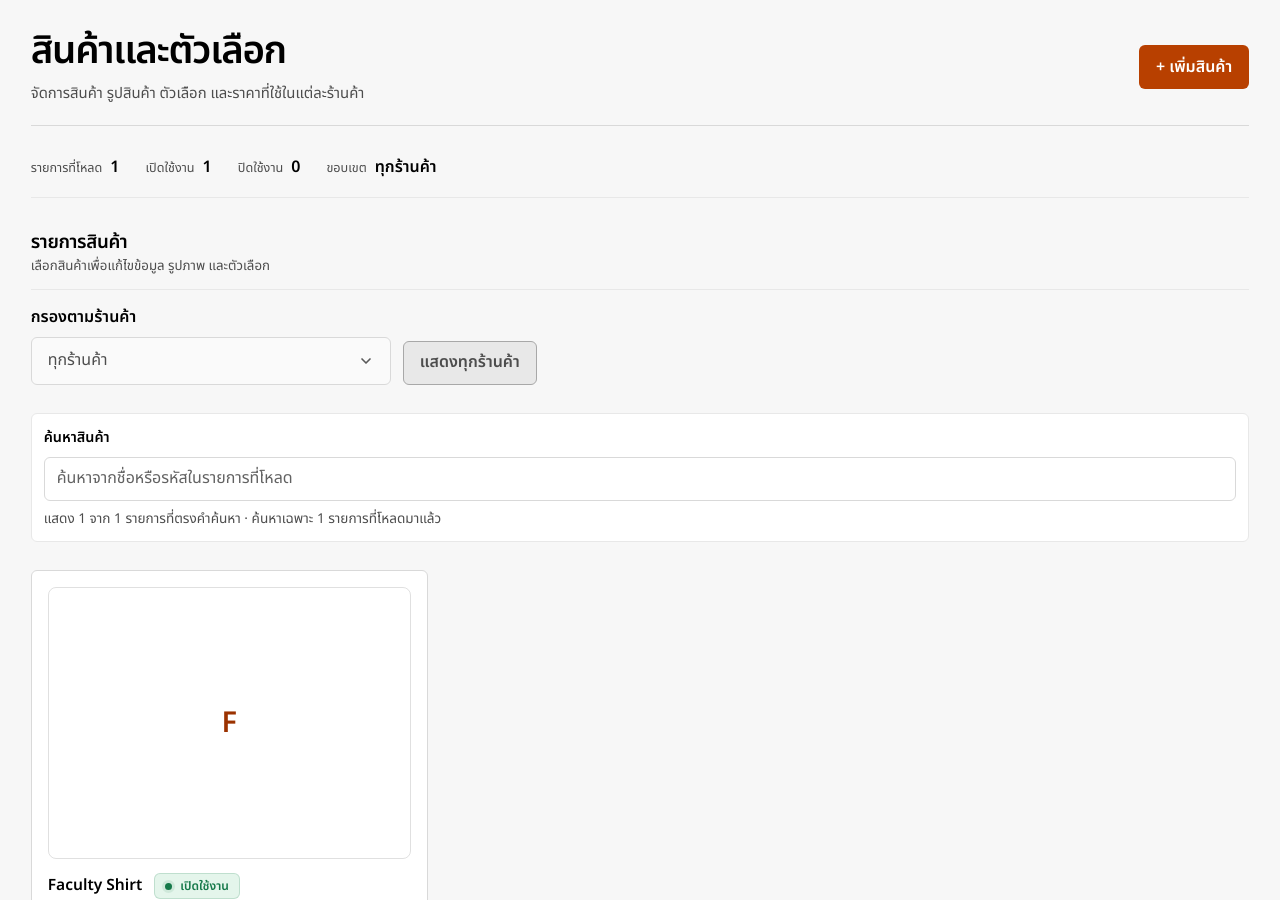
Test case: ProductManagementView › creates a product with storeId, name, and description only
This screenshot has width=1280, height=900.
expect the heading "Faculty Shirt" is shown: met, box 48,874 -> 142,899
Click the button "+ เพิ่มสินค้า" at (1194, 67), box 1139,45 -> 1249,89
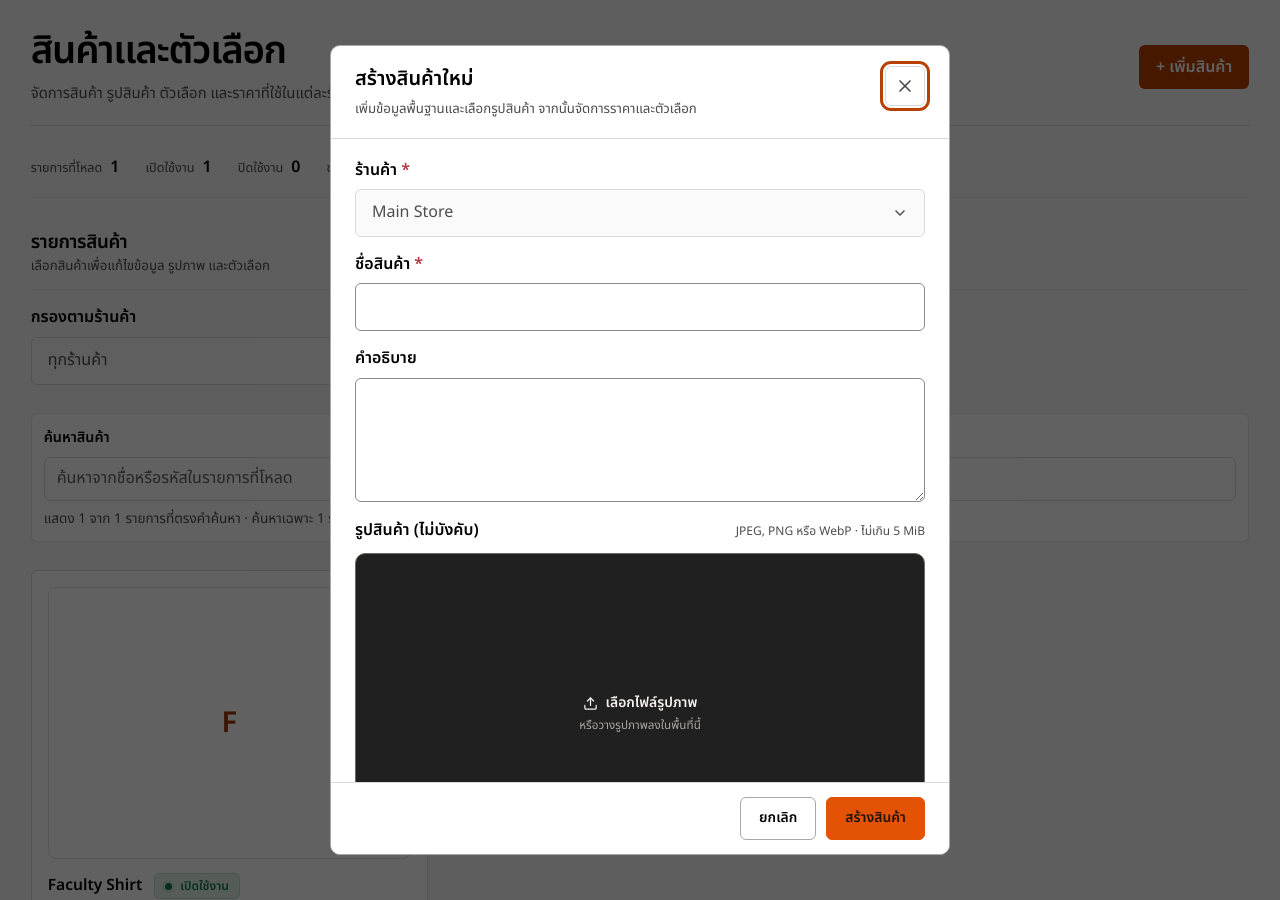
Type "  Faculty Bag  " into the field labelled "ชื่อสินค้า" at (640, 307), box 355,283 -> 925,331
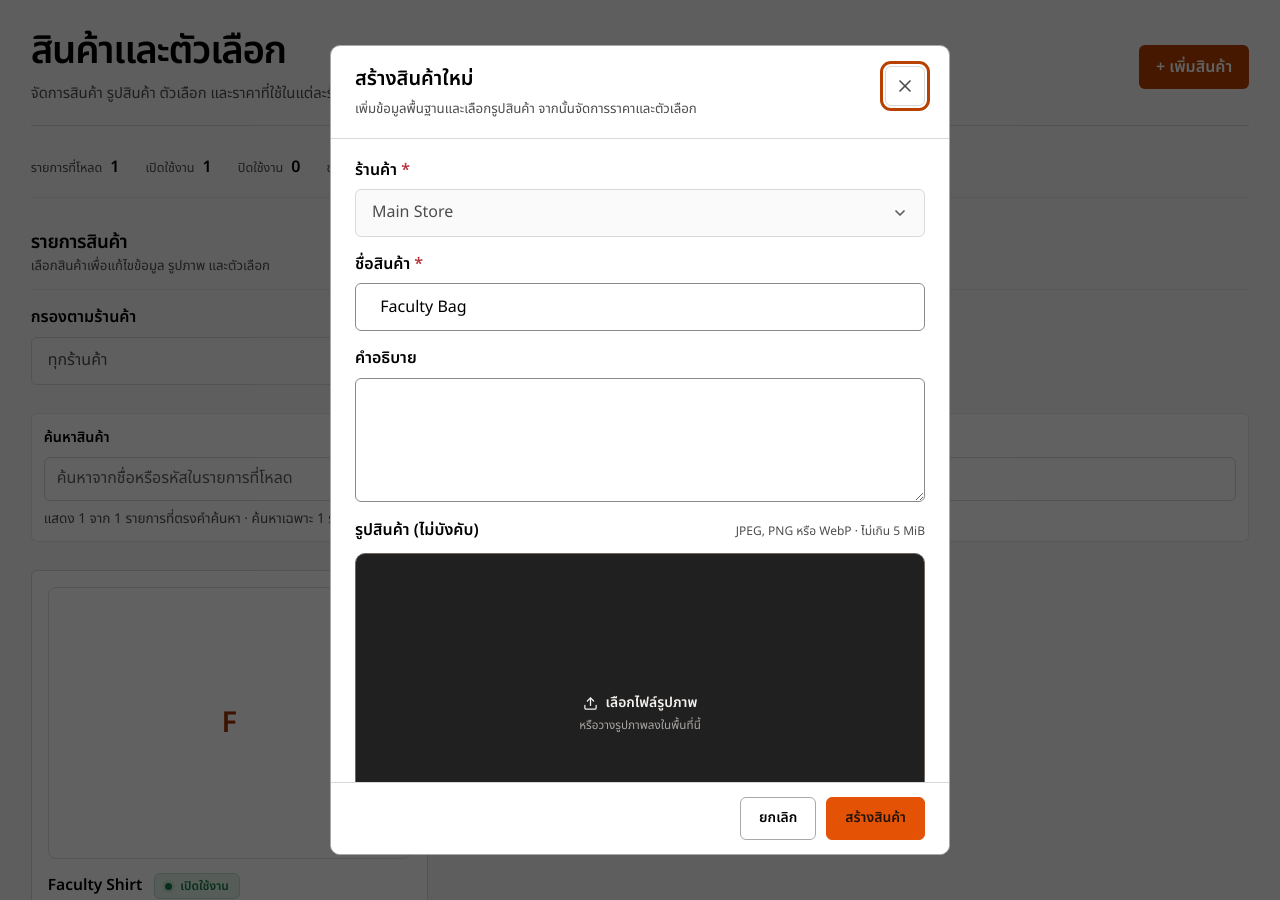
Type "  Canvas bag  " into the text box labelled "คำอธิบาย" at (640, 440), box 355,378 -> 925,502
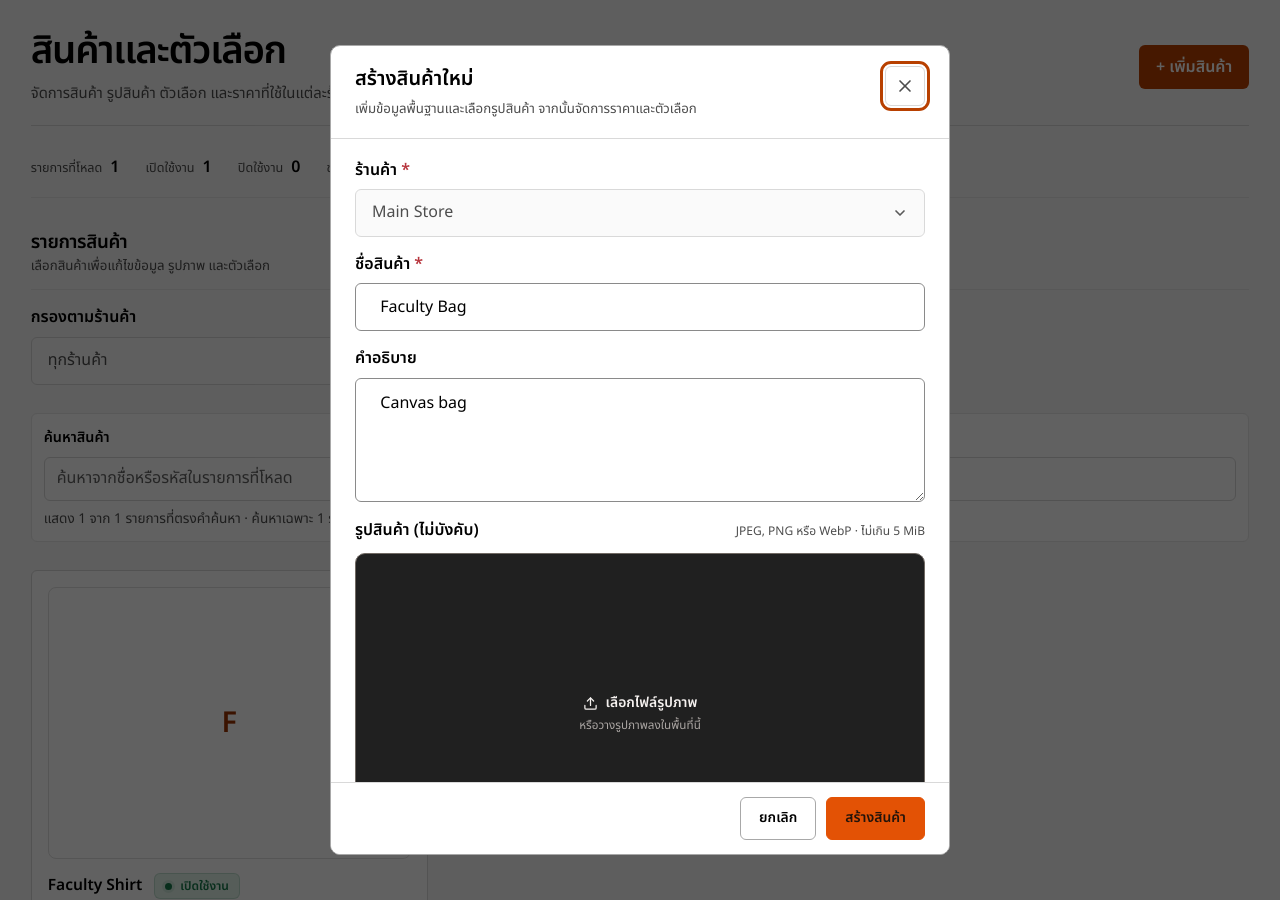
Click the button "สร้างสินค้า" at (876, 818), box 826,797 -> 925,840
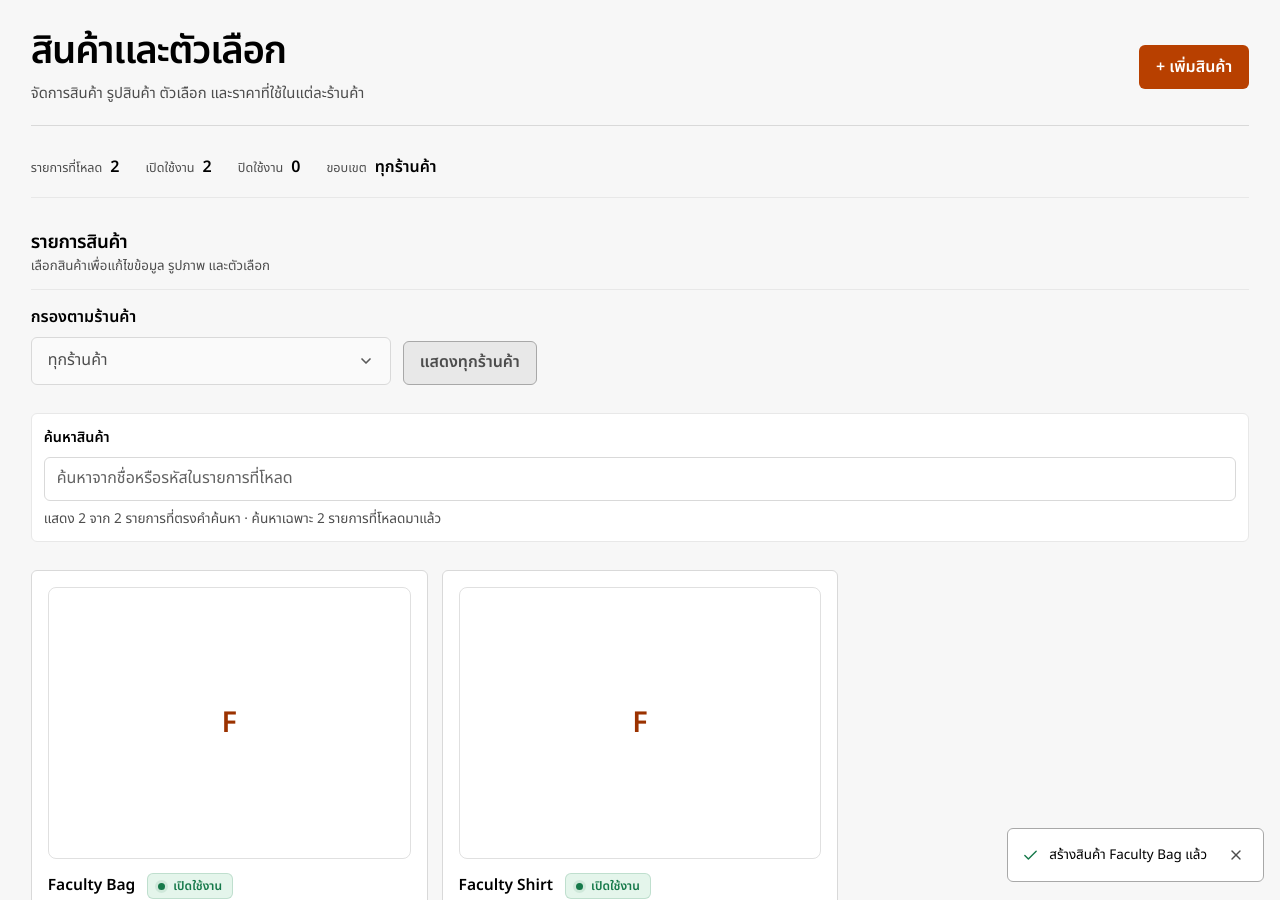
expect the text "สร้างสินค้า Faculty Bag แล้ว" is shown: met, box 1049,845 -> 1207,865
